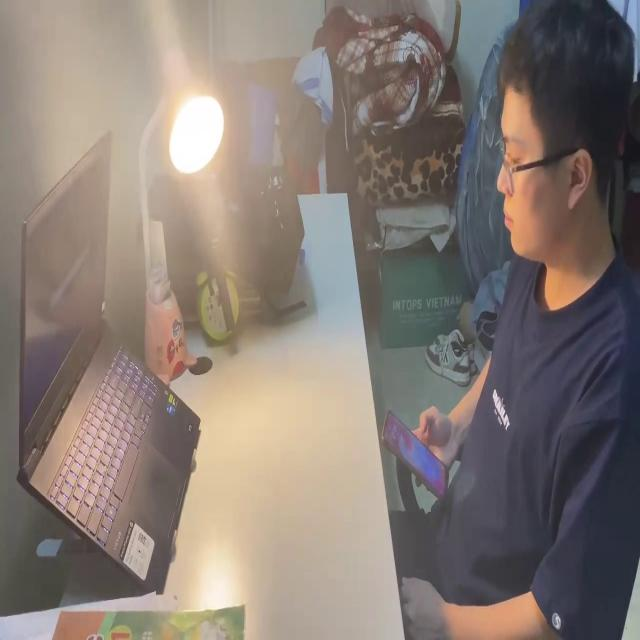book: (0, 600, 246, 640)
laptop: (14, 127, 200, 596)
phone: (378, 402, 454, 507)
student: (379, 0, 640, 640)
